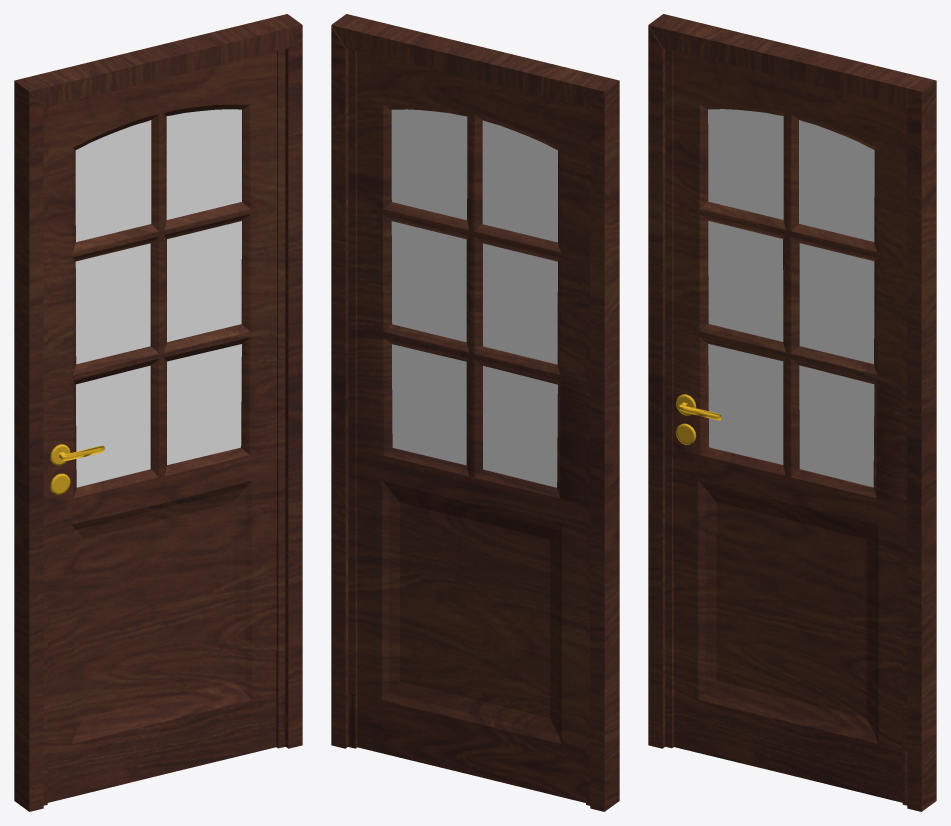
File: PUERTA8_NEW_YORK.glb
The picture shows the model from 3 angles, left to right: view 1: azimuth 30°, elevation 25°; view 2: azimuth 150°, elevation 25°; view 3: azimuth 330°, elevation 25°; orthographic projection.
Parts seen in each view (by area): view 1: Puerta8_New York, CRISTAL_GRANDE, Puerta8_Marco, Puerta8_Cerradura; view 2: Puerta8_New York, CRISTAL_GRANDE, Puerta8_Marco; view 3: Puerta8_New York, CRISTAL_GRANDE, Puerta8_Marco, Puerta8_Cerradura.
Boxes of the visible parts, x1,y1,x2,y2 form: Puerta8_New York: [43, 49, 285, 805]; CRISTAL_GRANDE: [75, 109, 241, 487]; Puerta8_Marco: [14, 14, 302, 811]; Puerta8_Cerradura: [50, 444, 104, 494]; Puerta8_New York: [348, 49, 590, 805]; CRISTAL_GRANDE: [391, 109, 557, 487]; Puerta8_Marco: [331, 14, 619, 811]; Puerta8_New York: [665, 49, 907, 805]; CRISTAL_GRANDE: [708, 109, 874, 487]; Puerta8_Marco: [648, 14, 936, 811]; Puerta8_Cerradura: [675, 394, 721, 444].
Size of the model in its own units: 769 by 1936 by 85.
5 materials, 3 textured.
